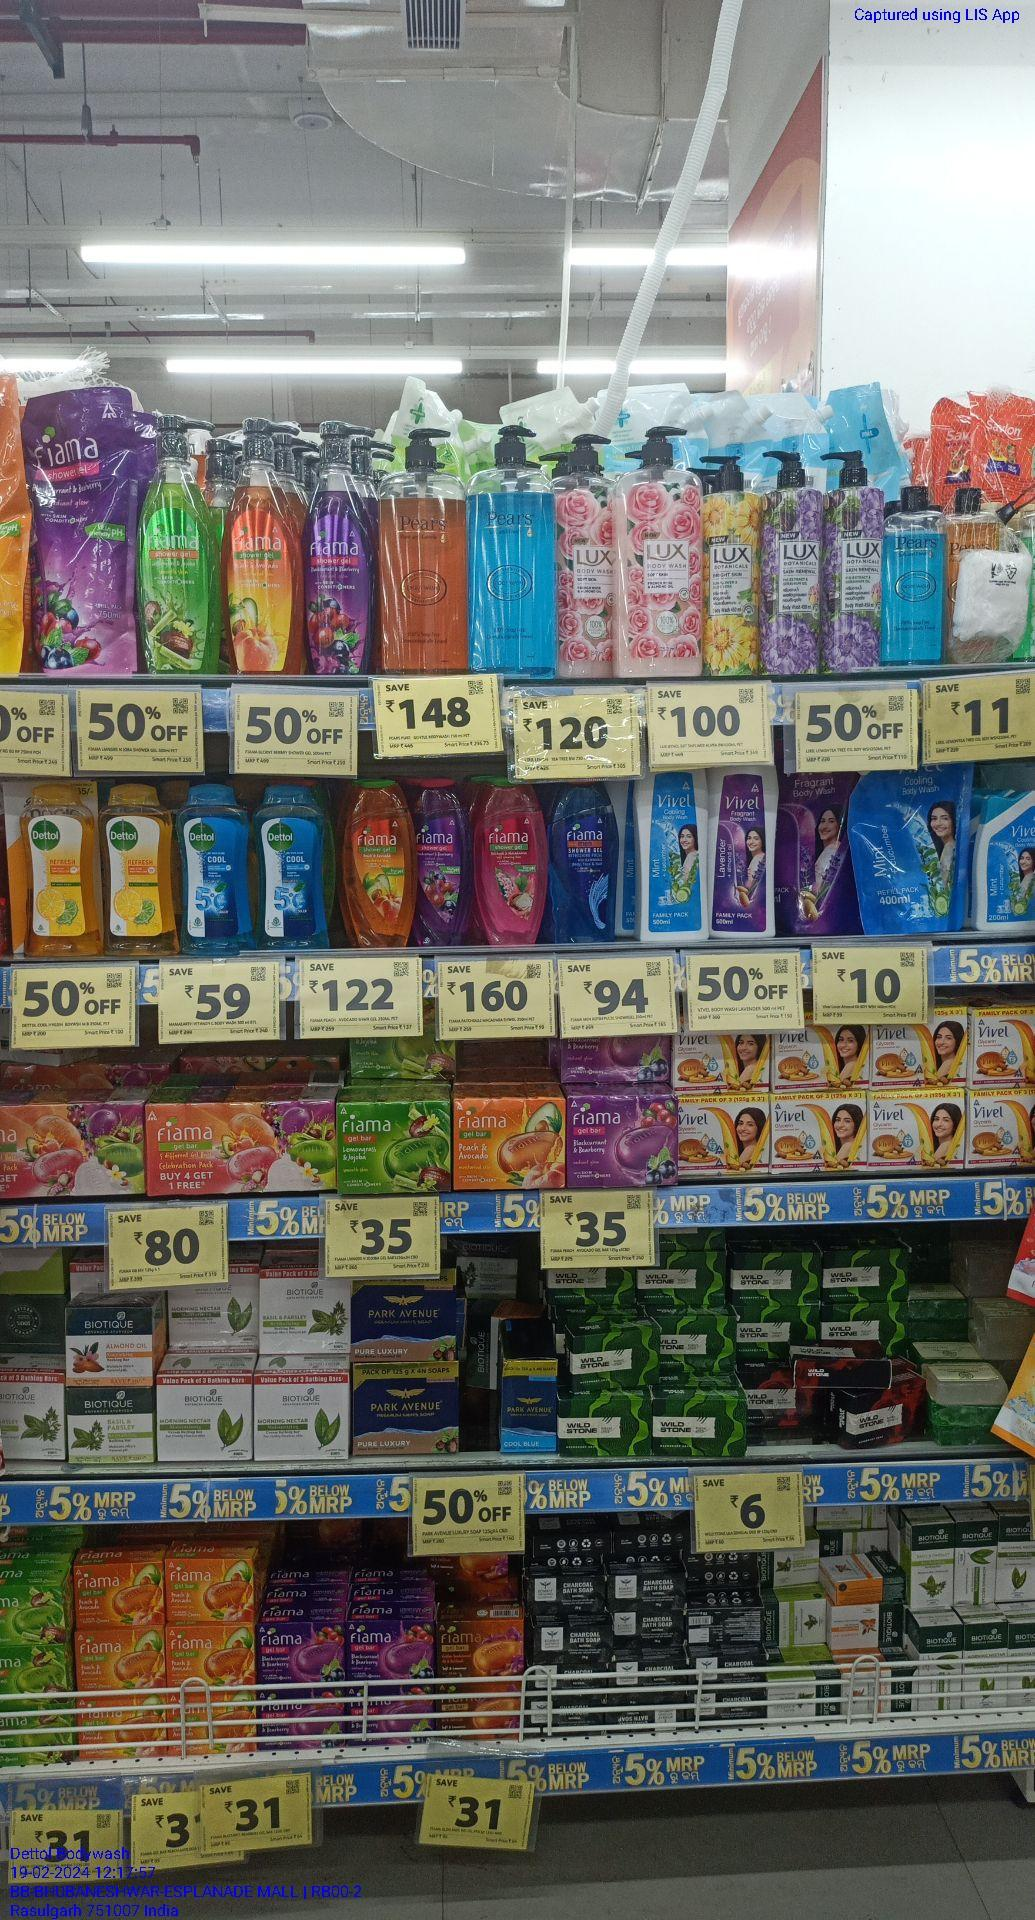Dettol_Bodywash_Cool: (181, 781, 254, 954), (257, 780, 328, 953)
Dettol_Bodywash_Refresh: (103, 781, 178, 956), (23, 790, 99, 956)
Fiama_Shower_Gel_Patchouli_and_Macadamia_250ML: (473, 780, 544, 944)
Fiama_Shower_Gel_Peach_and_Avocado_250ML: (342, 780, 413, 950)
Pears_Pure_Glycerin_and_Mint_Extracts_Body_Wash_250ML: (885, 493, 947, 664)
